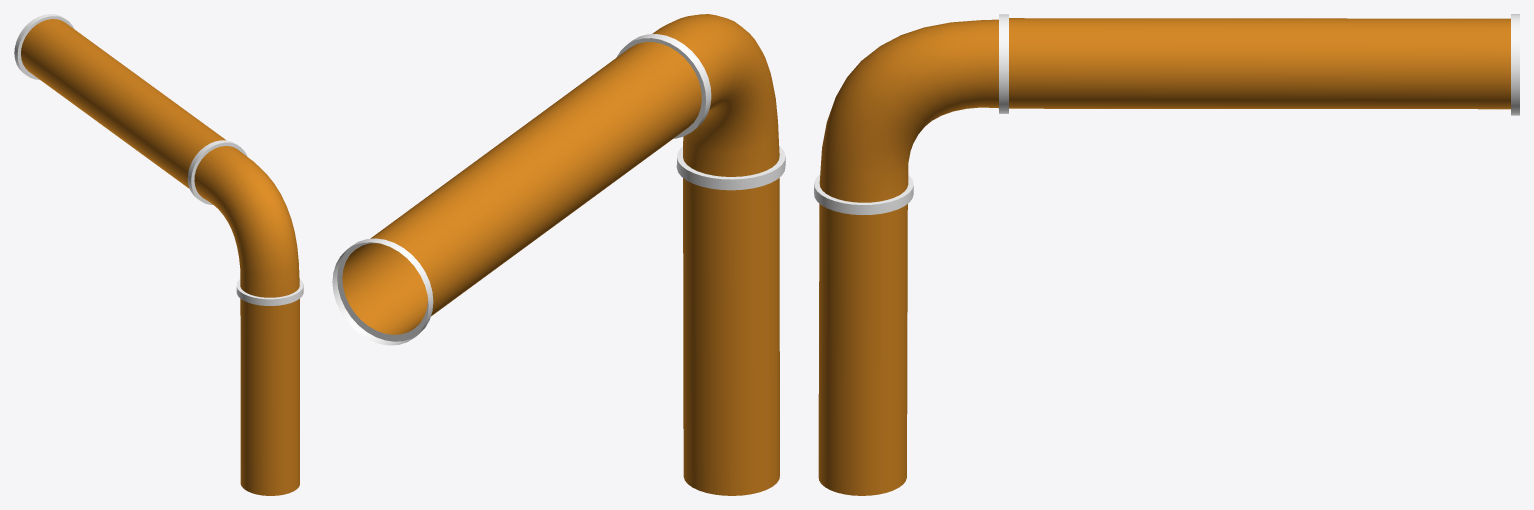
File: SM_H_Building_Tide_Waterway_11b_ATLAS.fbx
The picture shows the model from 3 angles, left to right: view 1: azimuth 30°, elevation 25°; view 2: azimuth 150°, elevation 25°; view 3: azimuth 270°, elevation 25°; orthographic projection. The views are drawn at different scales.
Visible parts, largest first — view 1: SM_H_Building_Tide_Waterway_11b_ATLAS_LOD0; view 2: SM_H_Building_Tide_Waterway_11b_ATLAS_LOD0; view 3: SM_H_Building_Tide_Waterway_11b_ATLAS_LOD0.
Boxes of the visible parts, bbox=[...] form: SM_H_Building_Tide_Waterway_11b_ATLAS_LOD0: bbox=[14, 14, 303, 495]; SM_H_Building_Tide_Waterway_11b_ATLAS_LOD0: bbox=[332, 14, 785, 495]; SM_H_Building_Tide_Waterway_11b_ATLAS_LOD0: bbox=[814, 14, 1519, 495].
Size of the model in its own units: 151 by 981 by 699.
